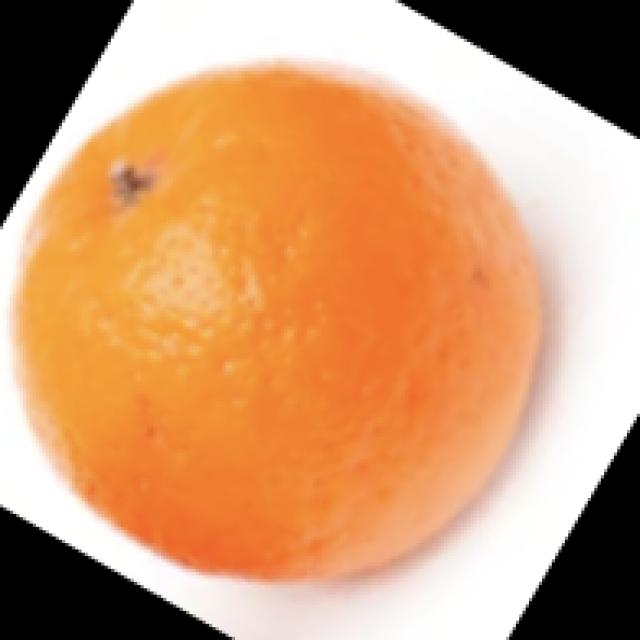fresh: (2, 34, 550, 598)
